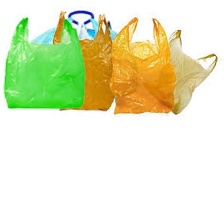plastic_bag: (0, 14, 85, 110), (108, 7, 177, 123), (50, 9, 116, 113), (152, 23, 219, 120)
